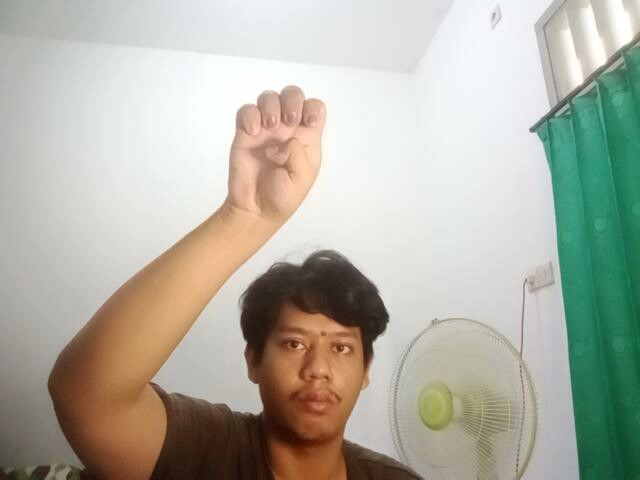E: (223, 72, 338, 226)
